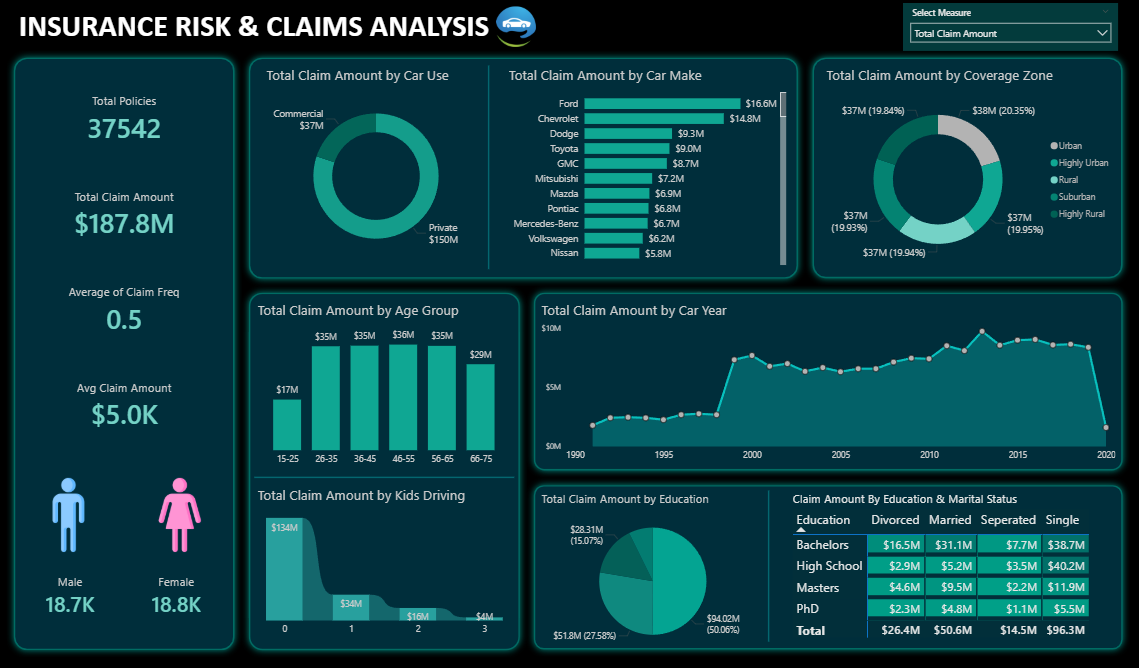

What the dashboard file says about the page in this screenshot:
{"tool":"powerbi","page":{"name":"Page 1","canvas":[1600,950],"ordinal":0},"visuals":[{"type":"textbox","box":[24,13.7,732.4,66.9],"z":0},{"type":"shape","box":[12,80.6,329.3,850.8],"z":1000},{"type":"cardVisual","fields":{"Data":["insurance_data_car.Total Policies","insurance_data_car.Total Claim Amount","Avg(insurance_data_car.Claim Freq)","insurance_data_car.Avg Claim Amount"]},"box":[42,114,270,528],"z":2000},{"type":"cardVisual","fields":{"Data":["insurance_data_car.Male Count","insurance_data_car.Female Count"]},"box":[32,778,288,132],"z":3000},{"type":"image","box":[42,642,114,180],"z":4000},{"type":"image","box":[198,642,114,180],"z":5000},{"type":"slicer","fields":{"Values":["Select Measure.Select Measure"]},"box":[1269.3,13.7,301.9,66.9],"z":6000},{"type":"shape","box":[341.7,80,790,330],"z":7000},{"type":"donutChart","fields":{"Y":["insurance_data_car.Total Claim Amount"],"Category":["insurance_data_car.Car Use"]},"box":[371.6,101.7,317.3,285.7],"z":8000},{"type":"clusteredBarChart","fields":{"Y":["insurance_data_car.Total Claim Amount"],"Category":["insurance_data_car.Car Make"]},"box":[711.7,101.7,398.3,285],"z":9000},{"type":"shape","box":[1132.1,80.6,454.5,329.3],"z":10000},{"type":"donutChart","fields":{"Y":["insurance_data_car.Total Claim Amount"],"Category":["insurance_data_car.Coverage Zone"]},"box":[1156.7,101.7,415,295],"z":11000},{"type":"shape","box":[341.3,409.9,400,521.4],"z":12000},{"type":"clusteredColumnChart","fields":{"Y":["insurance_data_car.Total Claim Amount"],"Category":["insurance_data_car.Age Group"]},"box":[358.5,430.5,365.4,240.1],"z":13000},{"type":"ribbonChart","fields":{"Y":["insurance_data_car.Total Claim Amount"],"Category":["insurance_data_car.Kids Driving"]},"box":[358.5,691.3,365.4,219.6],"z":14000},{"type":"shape","box":[741,409.9,845.6,269.3],"z":15000},{"type":"areaChart","fields":{"Y":["insurance_data_car.Total Claim Amount"],"Category":["insurance_data_car.Car Year"]},"box":[756.4,430.5,814.8,235],"z":16000},{"type":"shape","box":[741,679.2,845.6,250.4],"z":17000},{"type":"pieChart","fields":{"Y":["insurance_data_car.Total Claim Amount"],"Category":["insurance_data_car.Education"]},"box":[757.2,697.6,322.5,233.1],"z":18000},{"type":"pivotTable","title":"Claim Amount By Education & Marital Status ","fields":{"Rows":["insurance_data_car.Education"],"Columns":["insurance_data_car.Marital Status"],"Values":["insurance_data_car.Total Claim Amount"]},"box":[1109.6,697.6,461,212.1],"z":19000},{"type":"shape","box":[538.1,101.7,299.7,285.7],"z":20000},{"type":"shape","box":[930.8,697.6,299.7,212.1],"z":21000},{"type":"shape","box":[359.3,536.4,364.6,285.7],"z":22000},{"type":"image","box":[687.1,14,78.9,66.6],"z":23001}]}

Visuals, with their boxes in screenshot pixels (x1, y1, x2, y2), scaled from the page's 1600x950 canvas onto the 1139x668 screenshot:
textbox: 17/10/538/57
shape: 9/57/243/655
cardVisual - insurance_data_car.Total Policies x insurance_data_car.Total Claim Amount: 30/80/222/451
cardVisual - insurance_data_car.Male Count x insurance_data_car.Female Count: 23/547/228/640
image: 30/451/111/578
image: 141/451/222/578
slicer - Select Measure.Select Measure: 904/10/1118/57
shape: 243/56/806/288
donutChart - insurance_data_car.Total Claim Amount x insurance_data_car.Car Use: 265/72/490/272
clusteredBarChart - insurance_data_car.Total Claim Amount x insurance_data_car.Car Make: 507/72/790/272
shape: 806/57/1129/288
donutChart - insurance_data_car.Total Claim Amount x insurance_data_car.Coverage Zone: 823/72/1119/279
shape: 243/288/528/655
clusteredColumnChart - insurance_data_car.Total Claim Amount x insurance_data_car.Age Group: 255/303/515/472
ribbonChart - insurance_data_car.Total Claim Amount x insurance_data_car.Kids Driving: 255/486/515/641
shape: 527/288/1129/478
areaChart - insurance_data_car.Total Claim Amount x insurance_data_car.Car Year: 538/303/1118/468
shape: 527/478/1129/654
pieChart - insurance_data_car.Total Claim Amount x insurance_data_car.Education: 539/491/769/654
"Claim Amount By Education & Marital Status " pivotTable: 790/491/1118/640
shape: 383/72/596/272
shape: 663/491/876/640
shape: 256/377/515/578
image: 489/10/545/57
